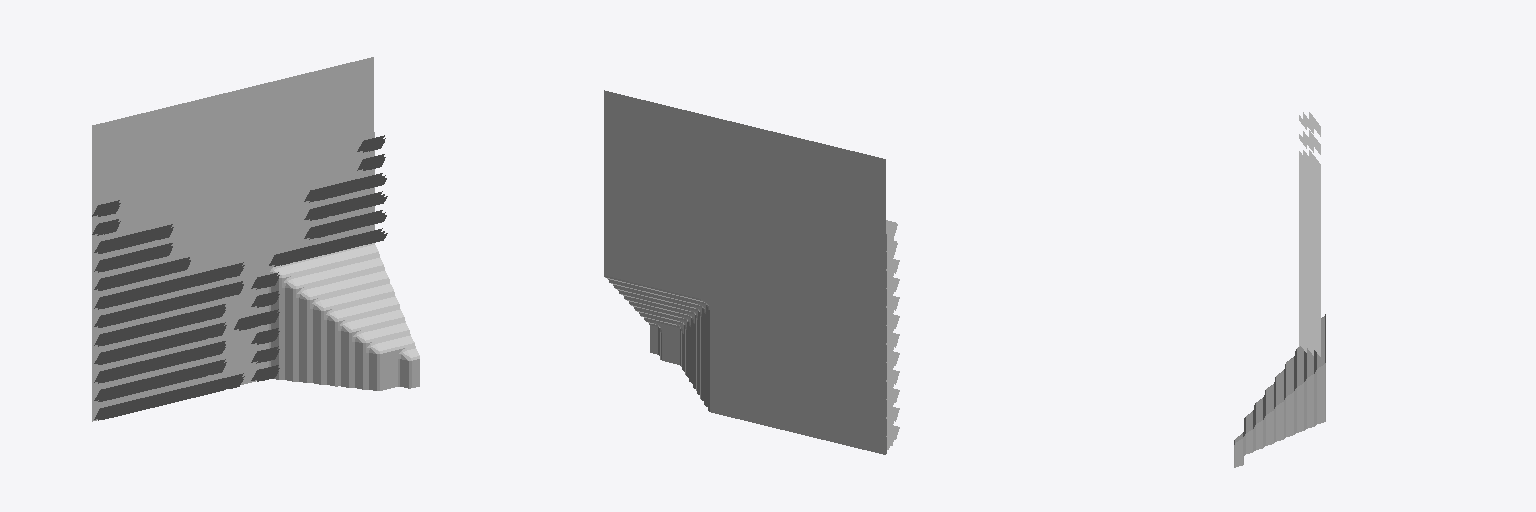
The model's file is Plat_full_08_05.obj.
3 views of the same model, side by side, from view 1: azimuth 30°, elevation 25°; view 2: azimuth 150°, elevation 25°; view 3: azimuth 270°, elevation 25° (orthographic).
Visible parts, largest first — view 1: map; view 2: map; view 3: map.
Boxes of the visible parts, x1,y1,x2,y2 form: map: [92, 57, 419, 421]; map: [604, 90, 899, 454]; map: [1234, 112, 1325, 467].
Size of the model in its own units: 32.5 by 32 by 9.